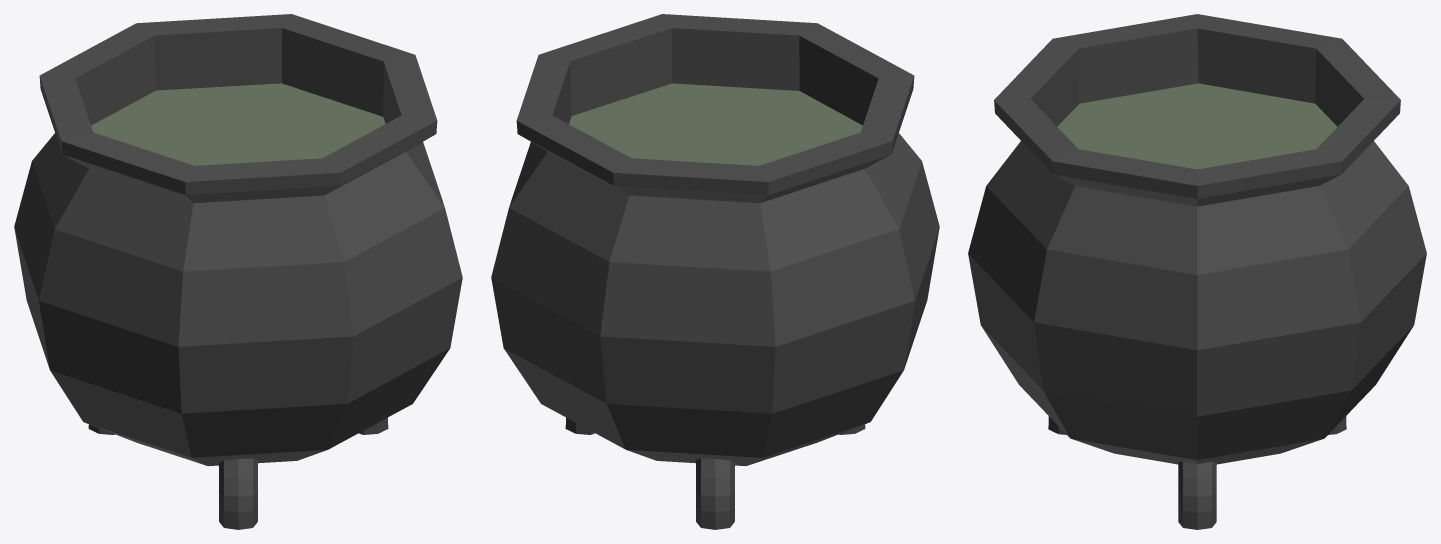
The model's file is Cauldron.fbx.
3 renders of one model, left to right at view 1: azimuth 30°, elevation 25°; view 2: azimuth 150°, elevation 25°; view 3: azimuth 270°, elevation 25°, orthographic.
Visible parts, largest first — view 1: Cauldron; view 2: Cauldron; view 3: Cauldron.
Part boxes in pixels (<box>): Cauldron: <box>14,14,462,529</box>; Cauldron: <box>491,14,939,529</box>; Cauldron: <box>968,14,1426,529</box>.
Size of the model in its own units: 135 by 117 by 135.
